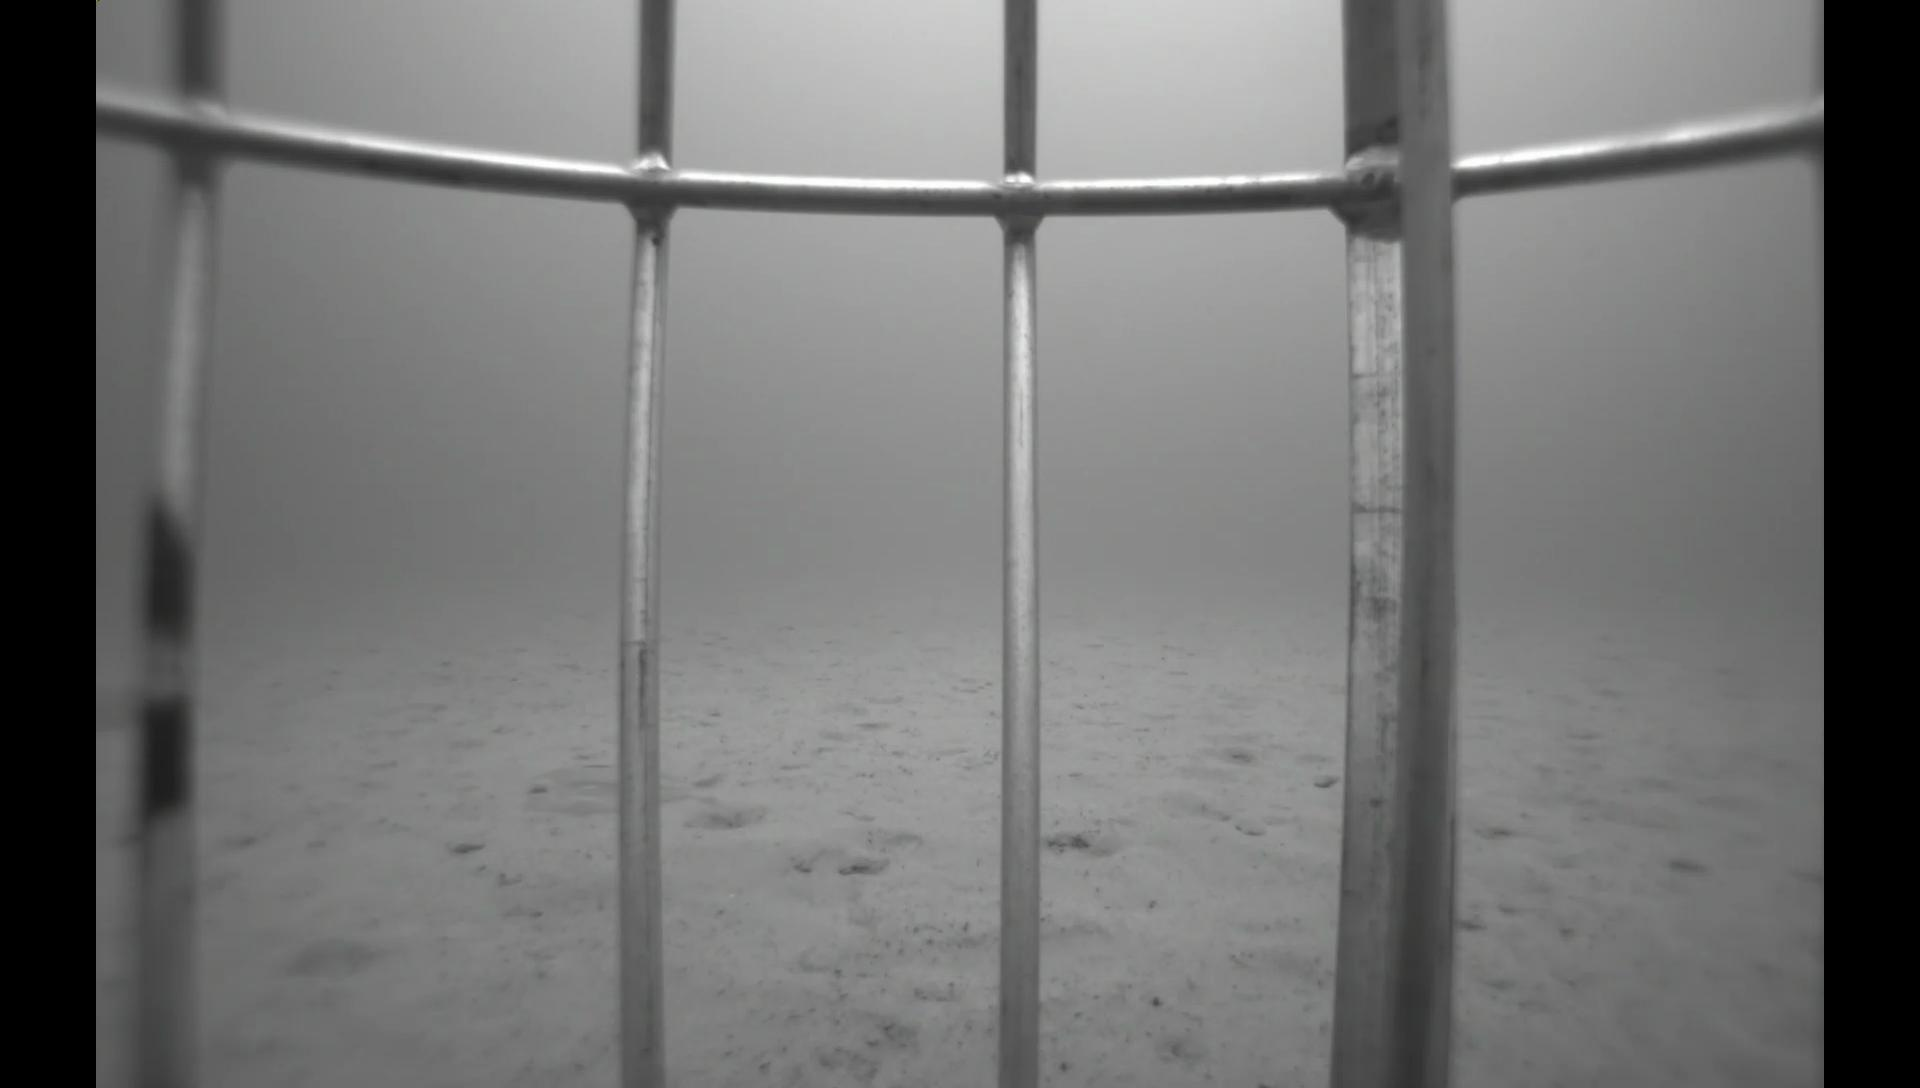CAULOLATILUSCYANOPS-170070101: (513, 758, 735, 818)
